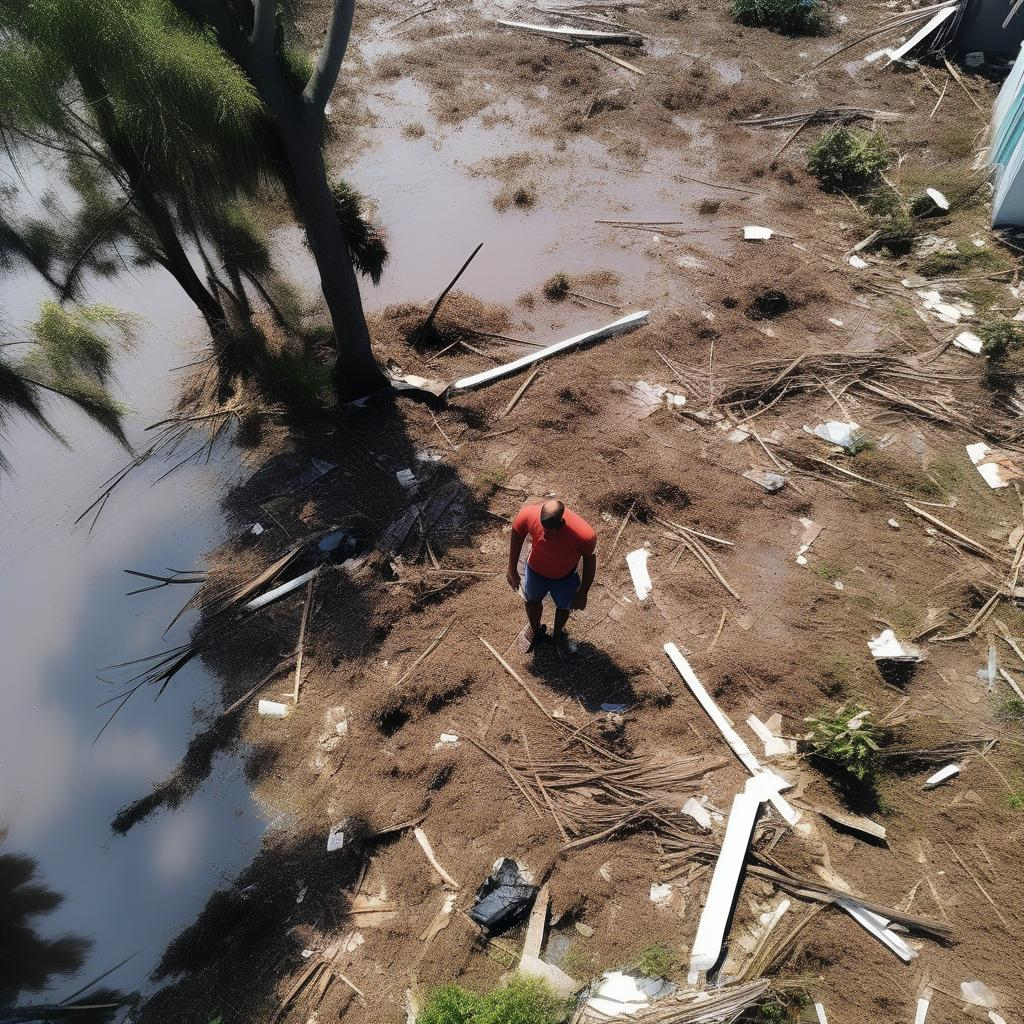victim: (492, 480, 612, 668)
